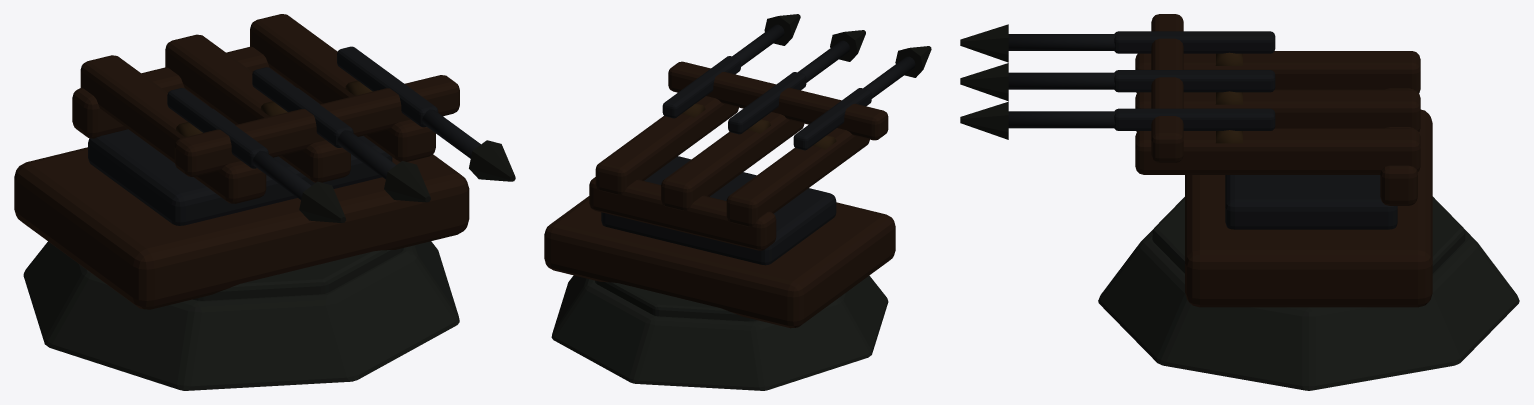
The model's file is TowerMulti0_pose.obj.
3 views of the same model, side by side, from view 1: azimuth 30°, elevation 25°; view 2: azimuth 150°, elevation 25°; view 3: azimuth 270°, elevation 25° (orthographic). The views are drawn at different scales.
Parts seen in each view (by area): view 1: rough_stone_plinth_lower_course, oak_firing_deck, iron_turntable, volley_bow_stock, volley_bow_stock.001, volley_bow_stock.002, rough_stone_plinth_upper_course, volley_bow_limb, oak_windlass_rail, volley_bow_limb.002, volley_bow_limb.001, volley_iron_guide (+8 smaller); view 2: rough_stone_plinth_lower_course, oak_firing_deck, iron_turntable, oak_windlass_rail, volley_bow_stock, volley_bow_stock.002, volley_bow_stock.001, rough_stone_plinth_upper_course, volley_bow_limb, volley_bow_limb.002, volley_bow_limb.001, volley_iron_guide.002 (+8 smaller); view 3: rough_stone_plinth_lower_course, oak_firing_deck, volley_bow_stock.002, iron_turntable, volley_bow_stock.001, volley_bow_stock, volley_iron_guide.002, volley_iron_guide, volley_iron_guide.001, rough_stone_plinth_upper_course, volley_bow_limb.002, iron_bolt.001 (+8 smaller).
Boxes of the visible parts, x1=… form: rough_stone_plinth_lower_course: x1=23, y1=241, x2=459, y2=390; oak_firing_deck: x1=14, y1=147, x2=469, y2=309; iron_turntable: x1=88, y1=88, x2=392, y2=225; volley_bow_stock: x1=80, y1=55, x2=266, y2=203; volley_bow_stock.001: x1=165, y1=34, x2=350, y2=182; volley_bow_stock.002: x1=250, y1=14, x2=435, y2=161; rough_stone_plinth_upper_course: x1=193, y1=248, x2=403, y2=300; volley_bow_limb: x1=174, y1=116, x2=285, y2=176; oak_windlass_rail: x1=72, y1=46, x2=297, y2=138; volley_bow_limb.002: x1=352, y1=75, x2=459, y2=134; volley_bow_limb.001: x1=269, y1=96, x2=370, y2=156; volley_iron_guide: x1=167, y1=88, x2=268, y2=168; rough_stone_plinth_lower_course: x1=551, y1=275, x2=888, y2=390; oak_firing_deck: x1=544, y1=196, x2=895, y2=328; iron_turntable: x1=601, y1=156, x2=836, y2=265; oak_windlass_rail: x1=589, y1=177, x2=776, y2=250; volley_bow_stock: x1=726, y1=128, x2=869, y2=226; volley_bow_stock.002: x1=595, y1=96, x2=738, y2=194; volley_bow_stock.001: x1=661, y1=112, x2=804, y2=210; rough_stone_plinth_upper_course: x1=595, y1=280, x2=757, y2=321; volley_bow_limb: x1=804, y1=94, x2=888, y2=140; volley_bow_limb.002: x1=668, y1=61, x2=750, y2=107; volley_bow_limb.001: x1=737, y1=77, x2=817, y2=124; volley_iron_guide.002: x1=662, y1=56, x2=740, y2=118; rough_stone_plinth_lower_course: x1=1098, y1=229, x2=1519, y2=390; oak_firing_deck: x1=1185, y1=109, x2=1432, y2=307; volley_bow_stock.002: x1=1135, y1=128, x2=1420, y2=174; iron_turntable: x1=1225, y1=175, x2=1397, y2=229; volley_bow_stock.001: x1=1135, y1=89, x2=1420, y2=131; volley_bow_stock: x1=1135, y1=51, x2=1420, y2=92; volley_iron_guide.002: x1=1114, y1=108, x2=1275, y2=130; volley_iron_guide: x1=1114, y1=31, x2=1275, y2=53; volley_iron_guide.001: x1=1114, y1=70, x2=1275, y2=92; rough_stone_plinth_upper_course: x1=1152, y1=196, x2=1465, y2=273; volley_bow_limb.002: x1=1151, y1=94, x2=1183, y2=162; iron_bolt.001: x1=1008, y1=72, x2=1115, y2=89.
Size of the model in its own units: 1.57 by 0.985 by 2.08.
